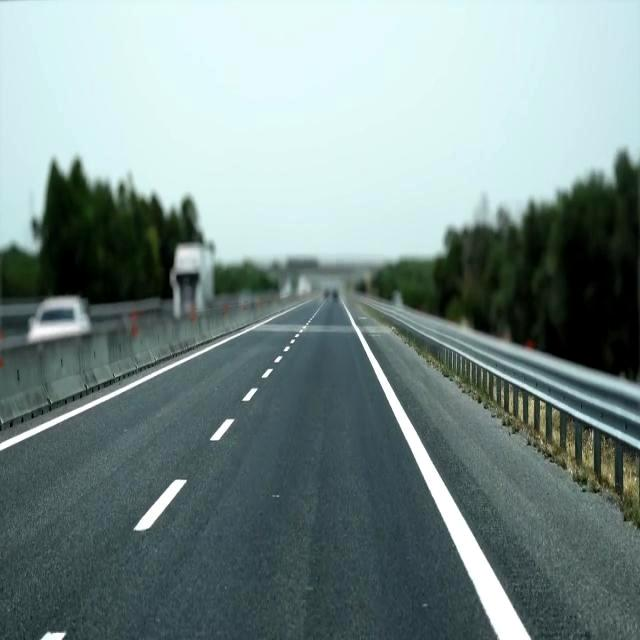road: (0, 299, 496, 639), (353, 309, 639, 639)
